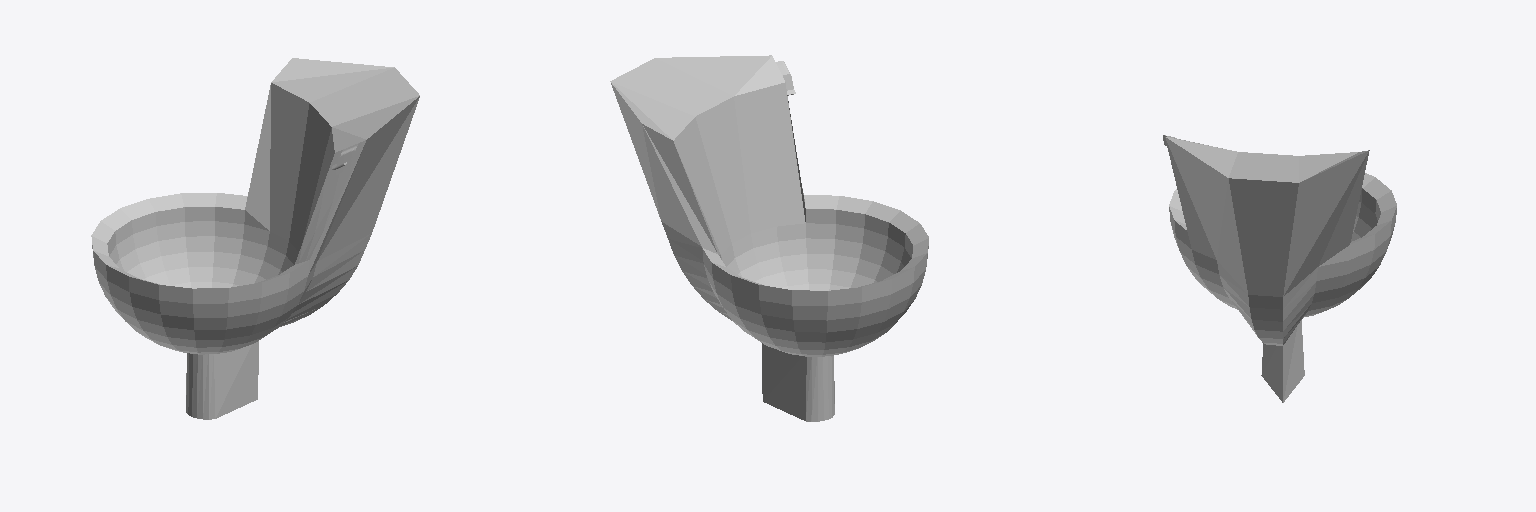
Rendered from toilet.obj.
3 views of the same model, side by side, from view 1: azimuth 30°, elevation 25°; view 2: azimuth 150°, elevation 25°; view 3: azimuth 270°, elevation 25° (orthographic).
Parts seen in each view (by area): view 1: toilet; view 2: toilet; view 3: toilet.
Boxes of the visible parts, x1=… form: toilet: x1=91, y1=58, x2=419, y2=419; toilet: x1=610, y1=55, x2=928, y2=421; toilet: x1=1163, y1=135, x2=1396, y2=402.
Bounding box in the file's own units: 3.49 × 3.27 × 2.39.